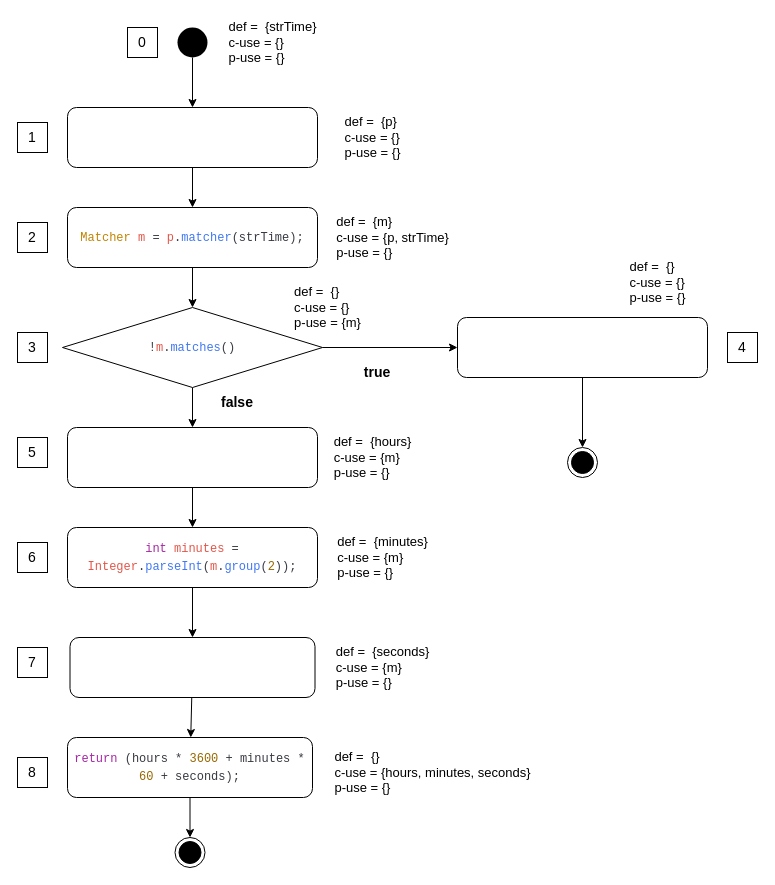
This 775x885 diagram has some shape labels left out. Here are the shapes that lost their labels. From the top down, the box of each, then its label:
(66, 106, 318, 168): Pattern p = Pattern . compile ( "( \\ d+):([0-5]? \\ d):([0-5]? \\ d)" );
(456, 316, 708, 378): throw new ParseException ( "Invalid seconds-string" , 0 );
(66, 426, 318, 488): int hours = Integer . parseInt ( m . group ( 1 ));
(69, 636, 315, 698): int seconds = Integer . parseInt ( m . group ( 3 ));
